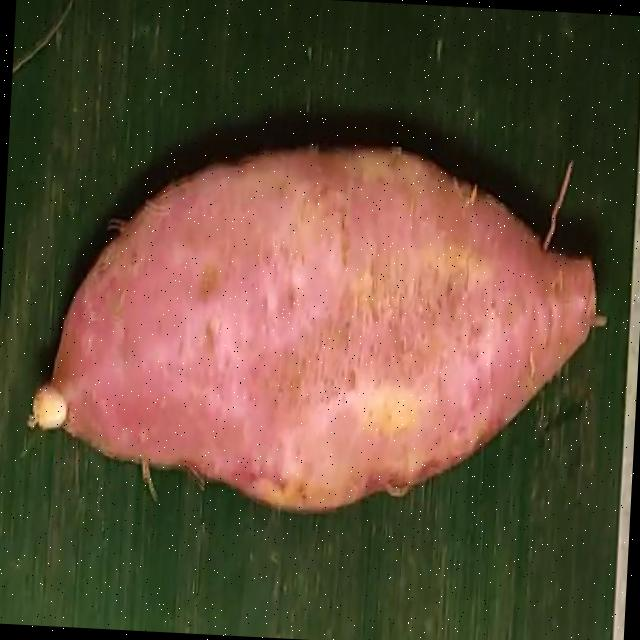Sweet Potato: (35, 149, 601, 508)
